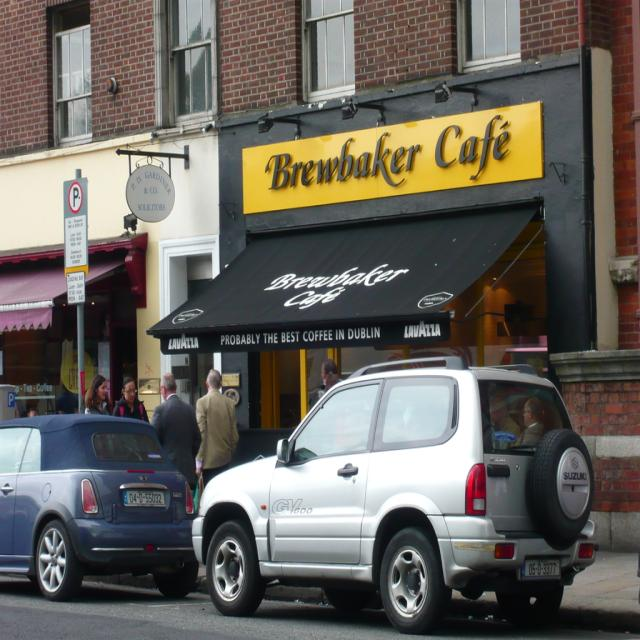car: (188, 353, 597, 633)
